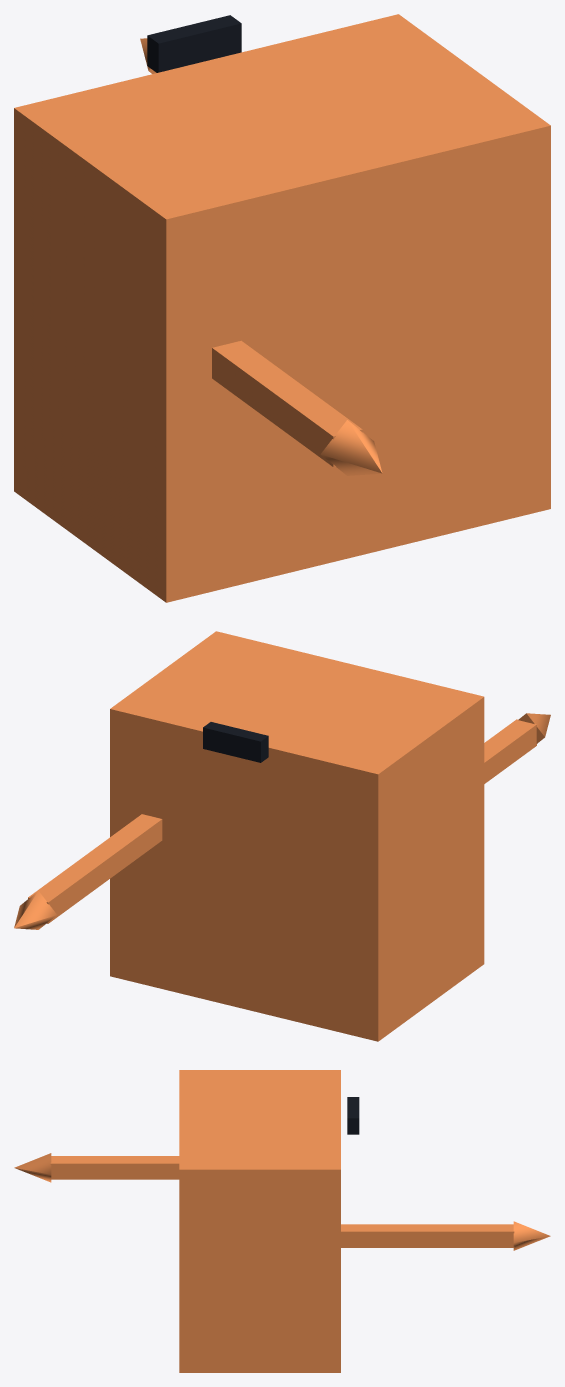
Rendered from enemy-playground-rotor-knight-v1.glb.
3 renders of one model, top to bottom at view 1: azimuth 30°, elevation 25°; view 2: azimuth 150°, elevation 25°; view 3: azimuth 270°, elevation 25°, orthographic. The views are drawn at different scales.
Visible parts, largest first — view 1: Rotor Knight; view 2: Rotor Knight; view 3: Rotor Knight.
Boxes of the visible parts, box(x1,y1,x2,y2) form: Rotor Knight: box(14, 14, 550, 602); Rotor Knight: box(14, 631, 550, 1041); Rotor Knight: box(14, 1070, 550, 1372).
Size of the model in its own units: 1.57 by 1.59 by 3.59.
